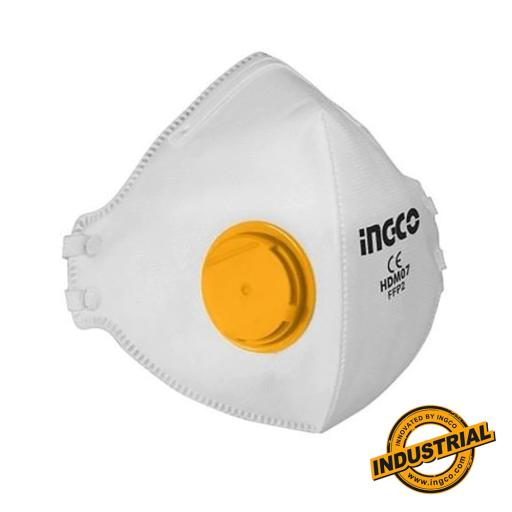mask: (66, 44, 454, 421)
